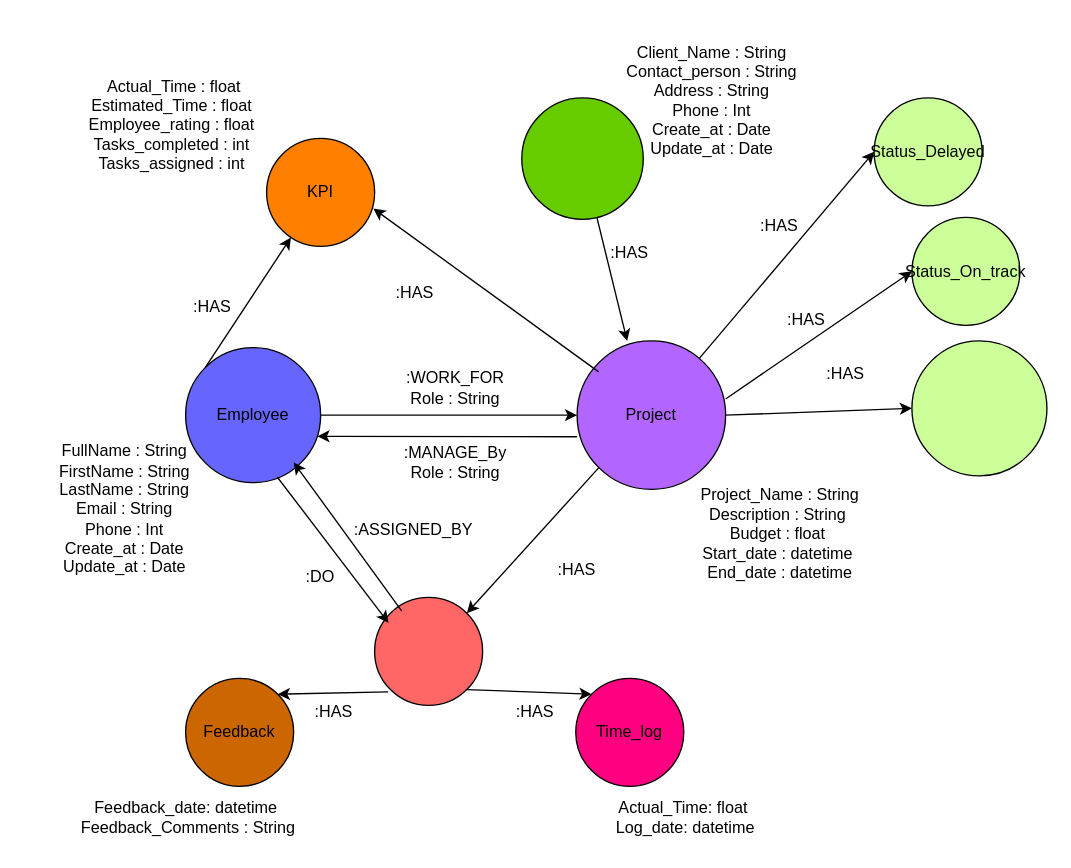
Some shapes in this 1071 by 868 pixel diagram are drawn without their labels. Each missing label, with the box of its shape:
Client: (520, 97, 643, 219)
Status_Completed: (911, 340, 1047, 476)
Task: (373, 596, 483, 705)
